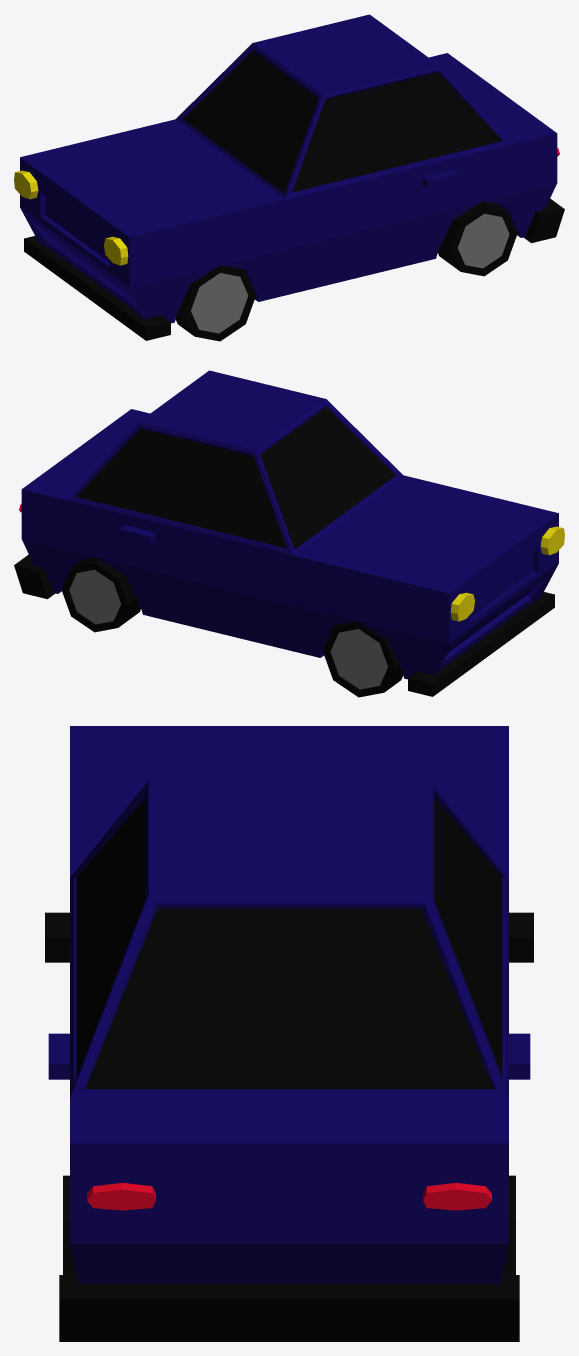
File: car.fbx
3 views of the same model, one above another, from view 1: azimuth 30°, elevation 25°; view 2: azimuth 150°, elevation 25°; view 3: azimuth 270°, elevation 25° (orthographic). The views are drawn at different scales.
Visible parts, largest first — view 1: Car; view 2: Car; view 3: Car.
Boxes of the visible parts, x1,y1,x2,y2 form: Car: (14,14,564,341); Car: (14,370,564,697); Car: (45,726,533,1341).
Bounding box in the file's own units: 4.63 × 2.03 × 2.22.
